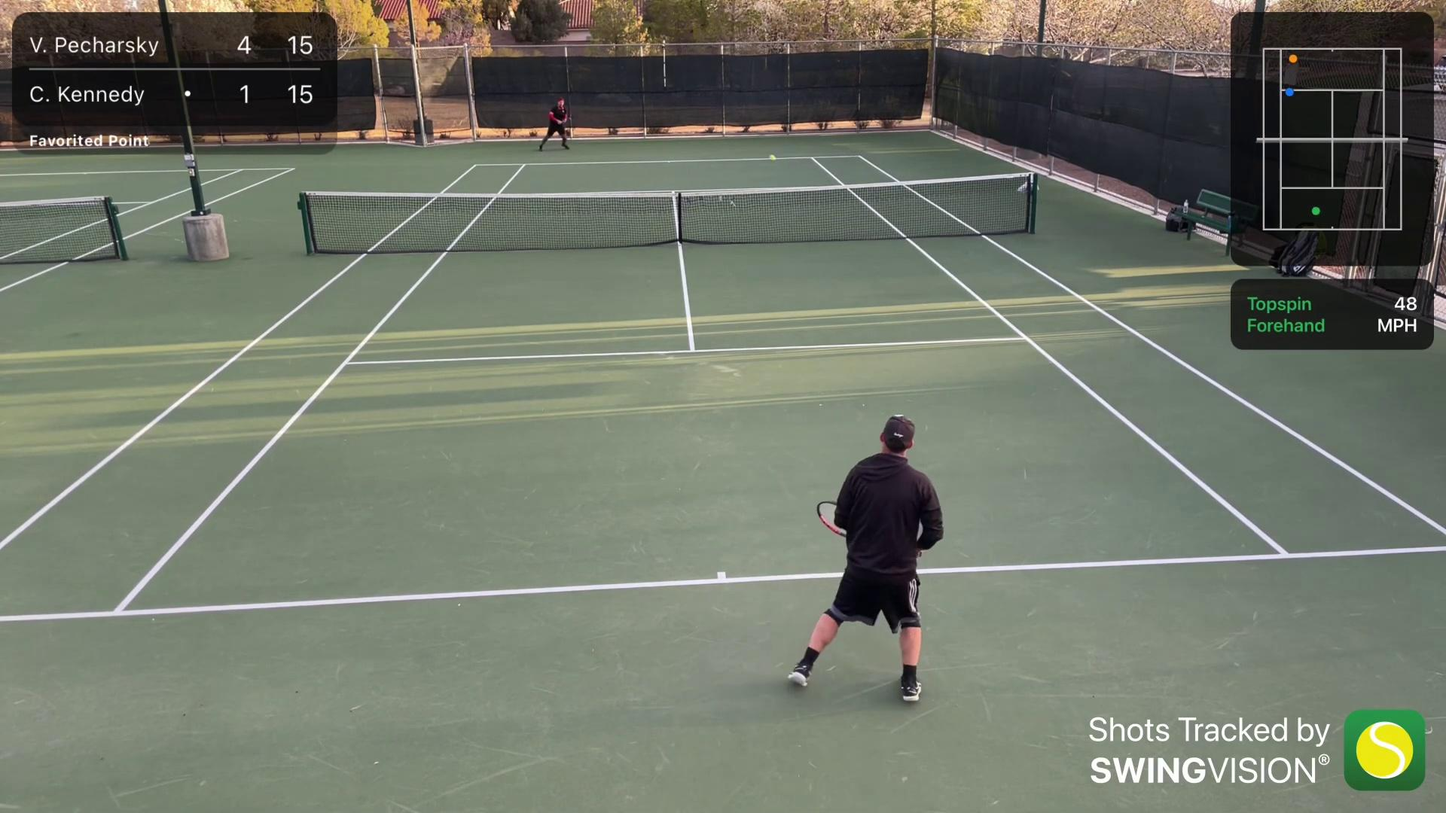ball: (771, 155, 776, 162)
